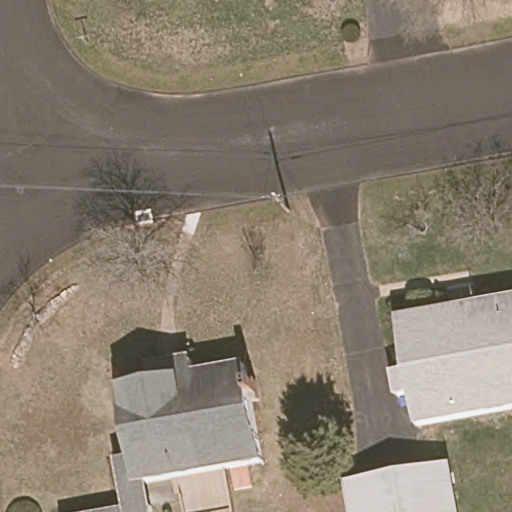DT: (269, 188, 291, 214)
